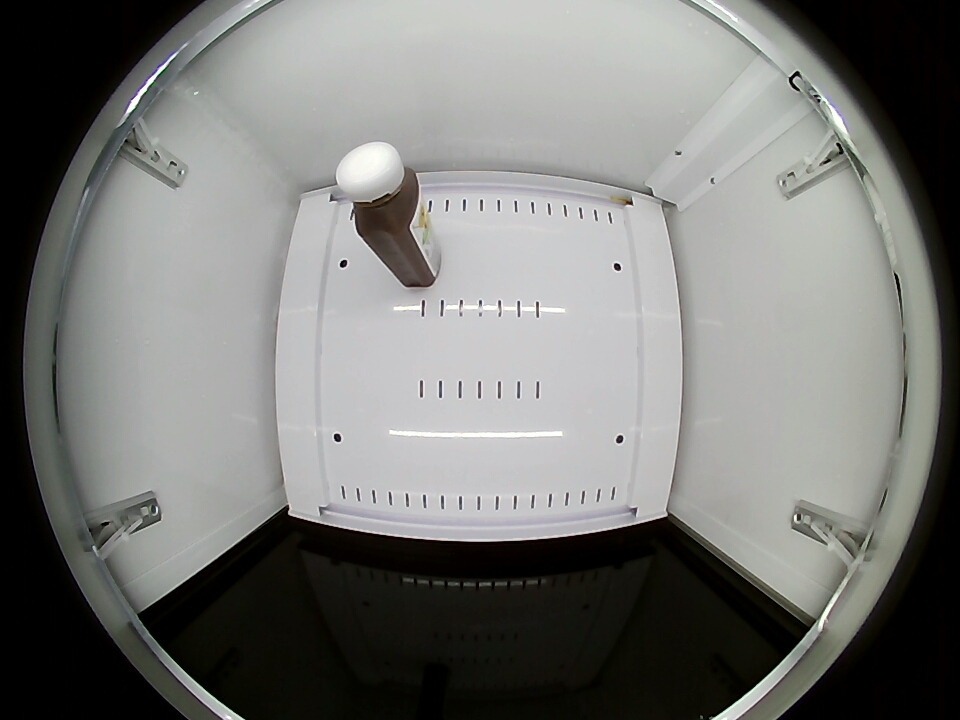youyanggudong: (335, 142, 424, 239)
